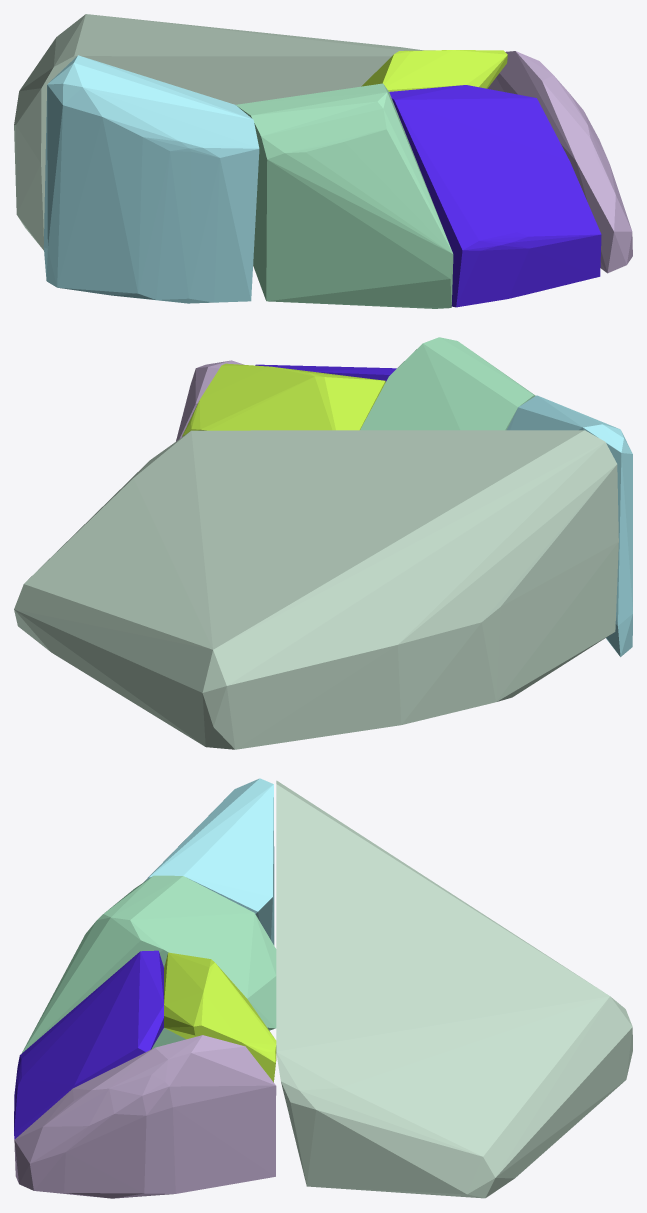
Rendered from keyboard-collider.glb.
3 renders of one model, top to bottom at view 1: azimuth 30°, elevation 25°; view 2: azimuth 150°, elevation 25°; view 3: azimuth 270°, elevation 25°, orthographic. The views are drawn at different scales.
Visible parts, largest first — view 1: geometry_2, geometry_3, geometry_5, geometry_0, geometry_1, geometry_4; view 2: geometry_0, geometry_3, geometry_4, geometry_2, geometry_1, geometry_5; view 3: geometry_0, geometry_1, geometry_3, geometry_5, geometry_2, geometry_4.
Part boxes in pixels (left/top/right/bottom): geometry_2: left=43, top=55, right=259, bottom=303; geometry_3: left=236, top=83, right=453, bottom=308; geometry_5: left=389, top=85, right=601, bottom=307; geometry_0: left=14, top=14, right=422, bottom=250; geometry_1: left=487, top=51, right=632, bottom=273; geometry_4: left=361, top=50, right=507, bottom=91; geometry_0: left=14, top=430, right=618, bottom=749; geometry_3: left=360, top=337, right=535, bottom=430; geometry_4: left=182, top=363, right=385, bottom=436; geometry_2: left=507, top=395, right=632, bottom=656; geometry_1: left=176, top=360, right=244, bottom=441; geometry_5: left=255, top=364, right=396, bottom=381; geometry_0: left=276, top=780, right=632, bottom=1198; geometry_1: left=14, top=1035, right=276, bottom=1198; geometry_3: left=21, top=875, right=276, bottom=1053; geometry_5: left=14, top=950, right=163, bottom=1139; geometry_2: left=143, top=778, right=274, bottom=945; geometry_4: left=164, top=952, right=276, bottom=1082.
Size of the model in its own units: 2.57 by 1.13 by 2.98.
